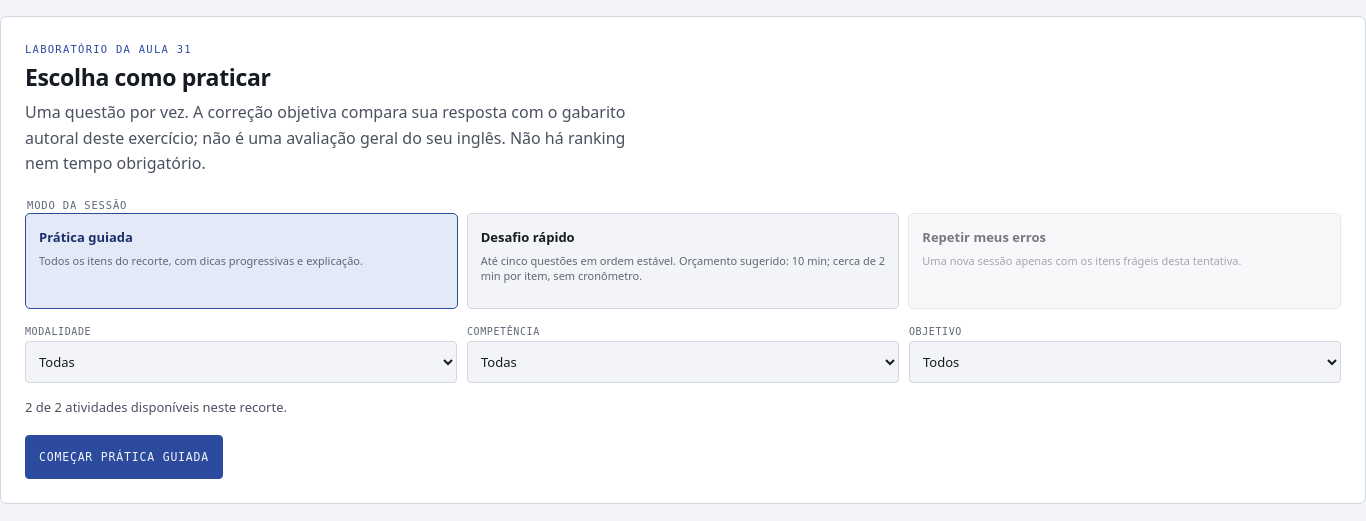
PracticeRunner › mostra modos, filtros e o total real sem esconder o tamanho do pack
expect the heading "Escolha como praticar" is shown: met, box [25,61,271,93]
expect the radio button labelled "Prática guiada" is checked: met, box [25,213,458,309]
Select "Reconhecer" in the dropdown labelled "Objetivo": (1125, 362) [909,341,1341,383]
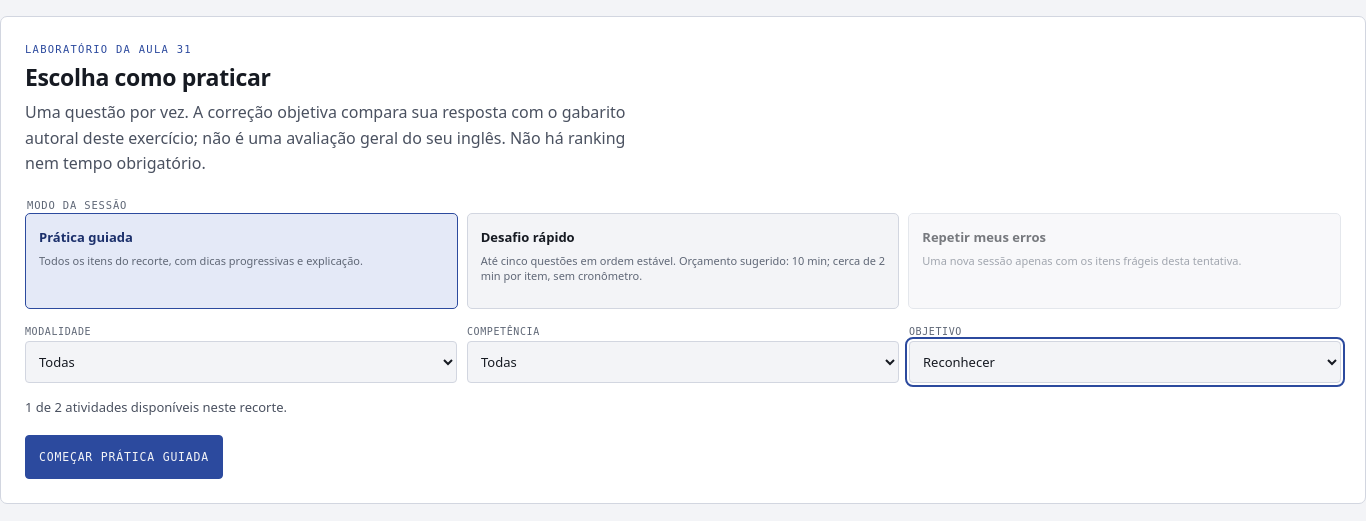
expect the text "1 de 2 atividades disponíveis neste recorte." is shown: met, box [25,398,287,416]
